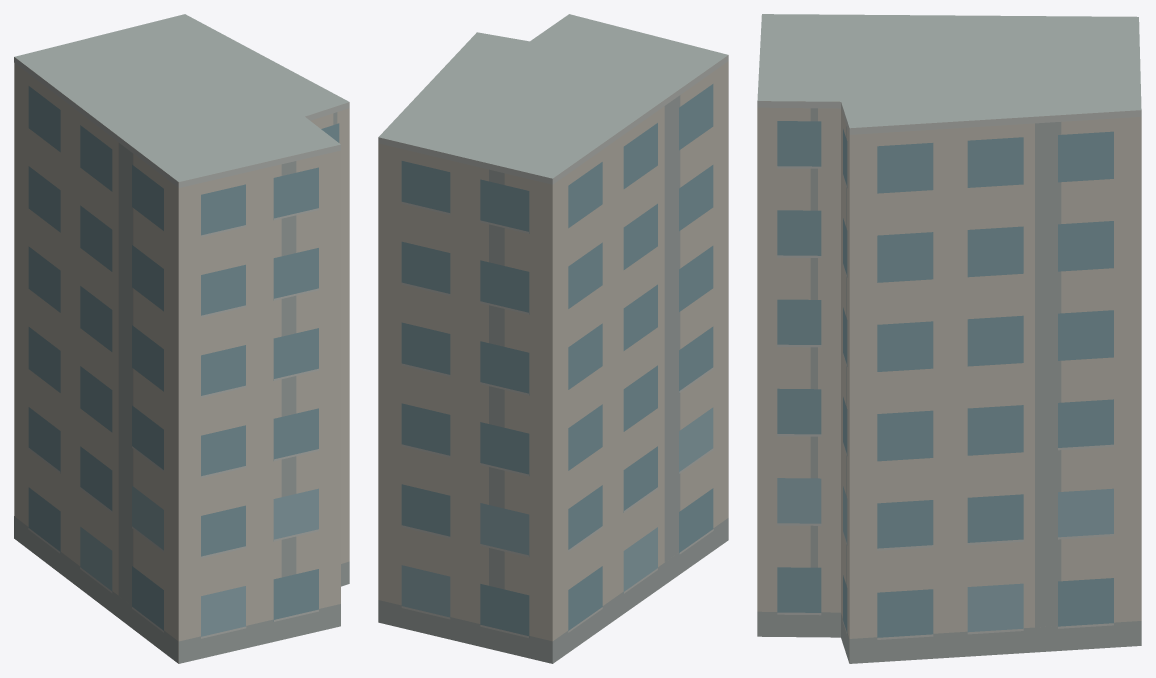
File: survey-upis-32838886.glb
3 renders of one model, left to right at view 1: azimuth 30°, elevation 25°; view 2: azimuth 150°, elevation 25°; view 3: azimuth 270°, elevation 25°, orthographic. The views are drawn at different scales.
Parts seen in each view (by area): view 1: survey-upis-32838886.tmp; view 2: survey-upis-32838886.tmp; view 3: survey-upis-32838886.tmp.
Boxes of the visible parts, <box> form: survey-upis-32838886.tmp: <box>14,14,349,663</box>; survey-upis-32838886.tmp: <box>378,14,728,663</box>; survey-upis-32838886.tmp: <box>757,14,1141,663</box>.
Bounding box in the file's own units: 8.91 × 19.46 × 12.66.
